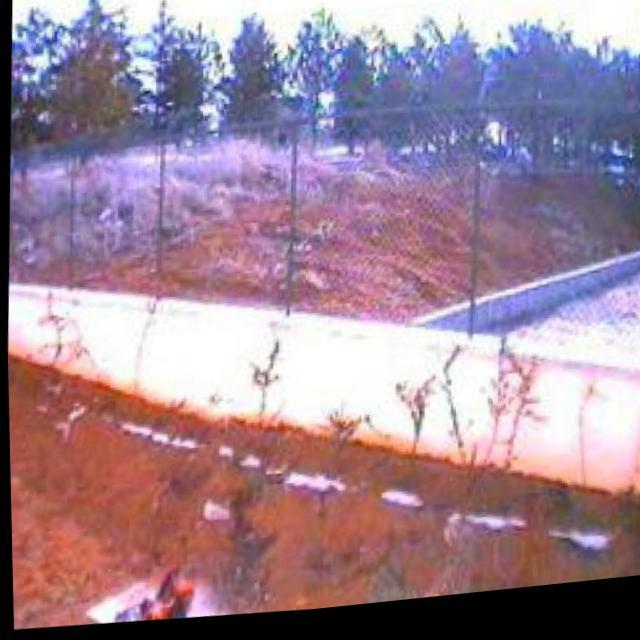fire: (132, 570, 192, 626)
